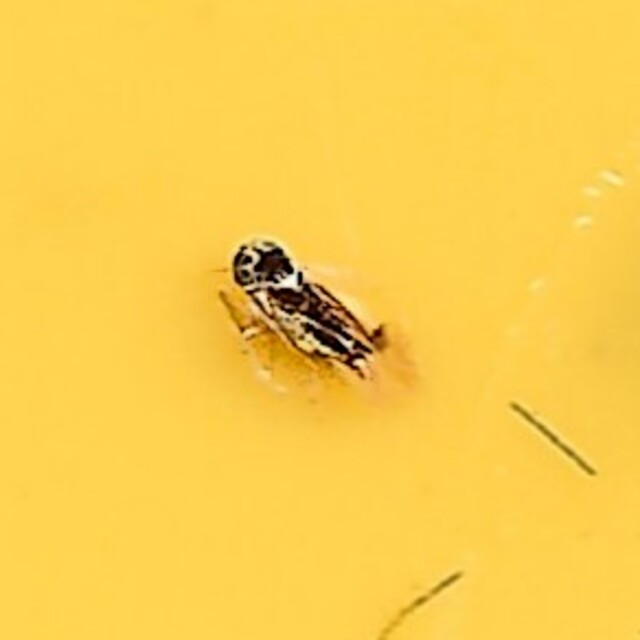Hemiptera: (219, 229, 421, 411)
